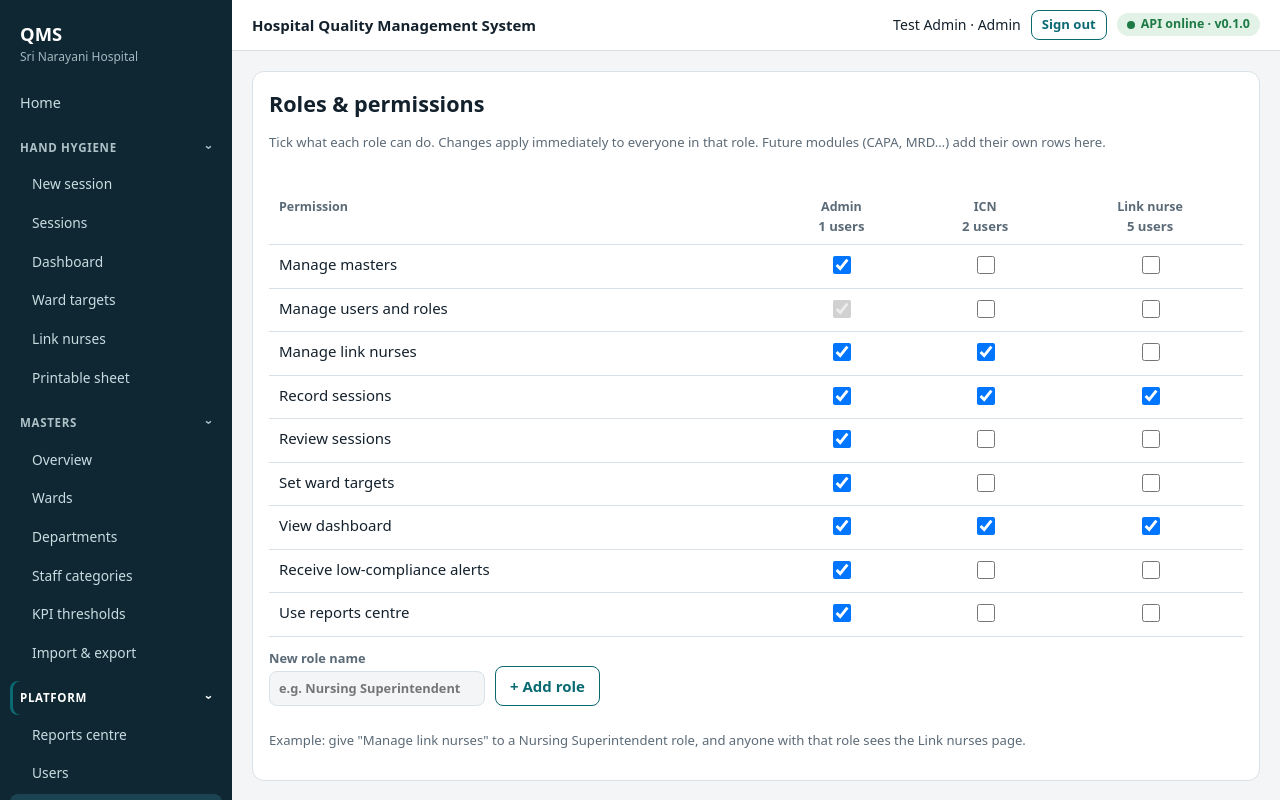
Test: Roles page › shows a 409 message when a change is refused
The width and height of the screenshot is (1280, 800).
Check: the column heading "Manage masters" is shown, box [269,245,770,288]
Click the checkbox named "ICN: Manage masters" at (986, 265), box [977,256,995,274]
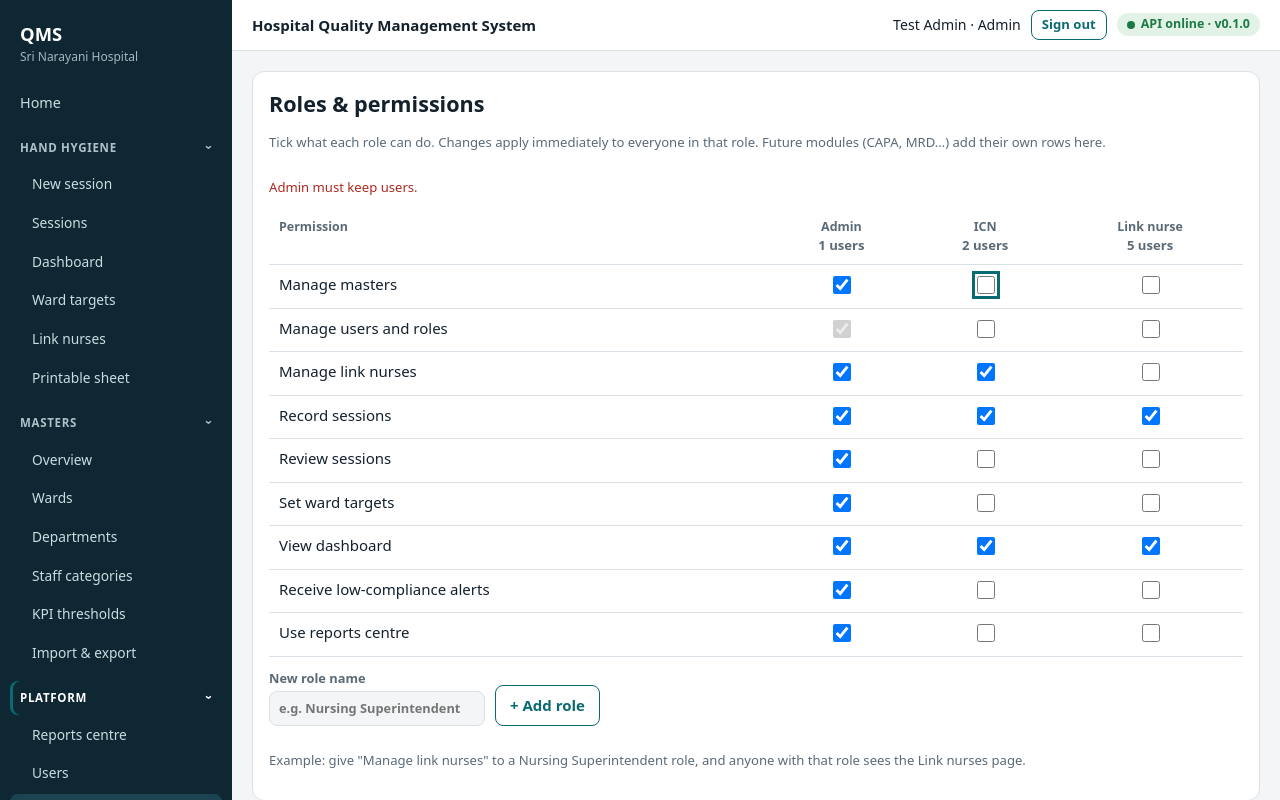
Check: the text "Admin must keep users." is shown, box [269,178,418,196]
